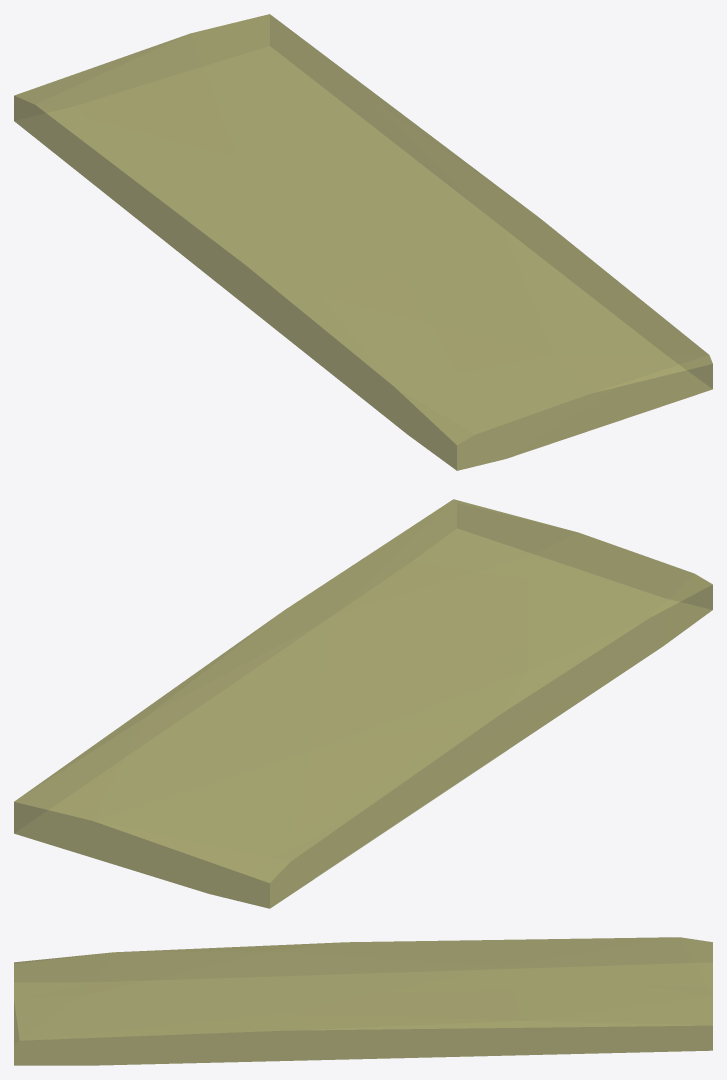
The picture shows the model from 3 angles, top to bottom: view 1: azimuth 30°, elevation 25°; view 2: azimuth 150°, elevation 25°; view 3: azimuth 270°, elevation 25°; orthographic projection. The views are drawn at different scales.
Parts seen in each view (by area): view 1: Shape_IndexedFaceSet.006_Shape_IndexedFaceSet.10716; view 2: Shape_IndexedFaceSet.006_Shape_IndexedFaceSet.10716; view 3: Shape_IndexedFaceSet.006_Shape_IndexedFaceSet.10716.
Boxes of the visible parts, box(x1,y1,x2,y2) form: Shape_IndexedFaceSet.006_Shape_IndexedFaceSet.10716: box(14, 14, 712, 470); Shape_IndexedFaceSet.006_Shape_IndexedFaceSet.10716: box(14, 499, 712, 908); Shape_IndexedFaceSet.006_Shape_IndexedFaceSet.10716: box(14, 937, 712, 1065).
Bounding box in the file's own units: 0.1387 × 0.0363 × 0.416.
